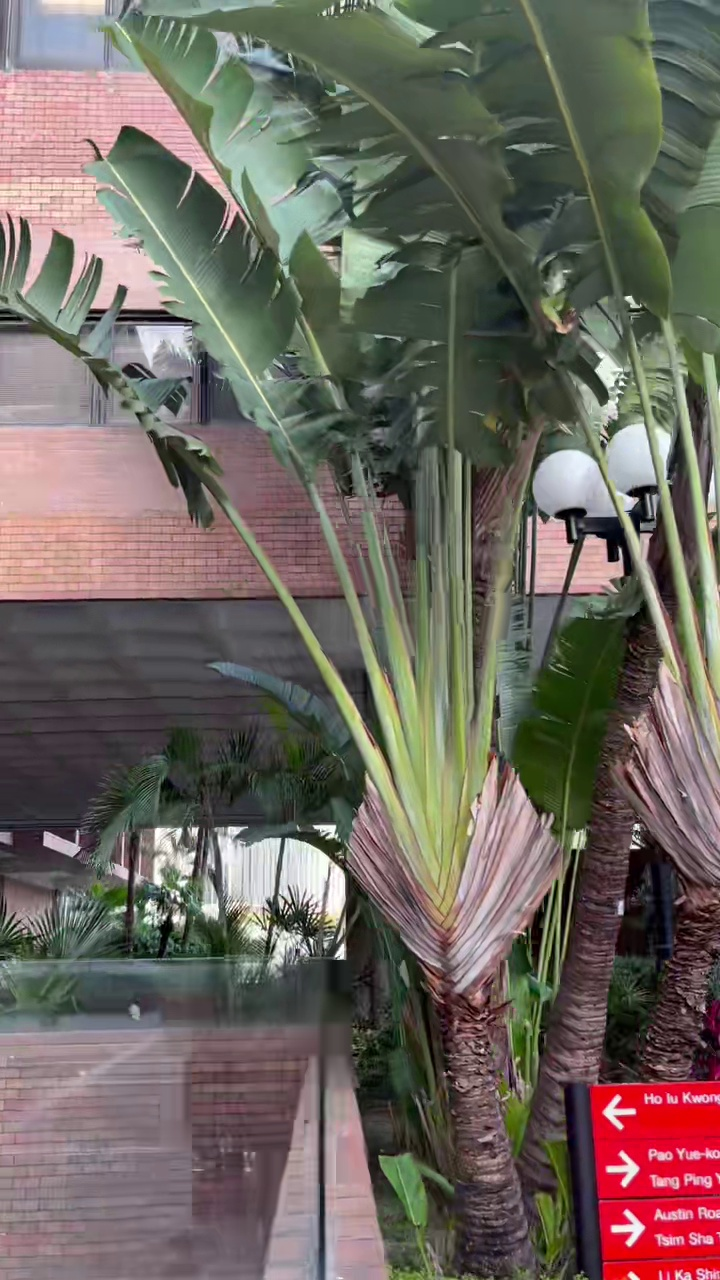Travellers-tree: (90, 0, 603, 1276)
